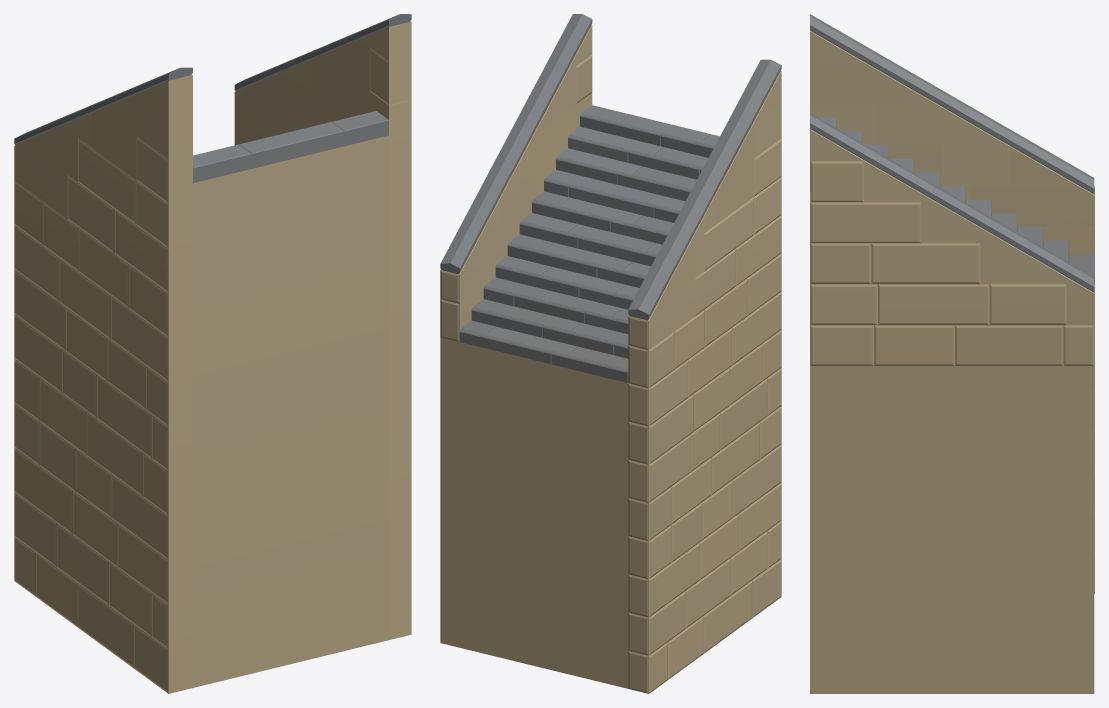
The picture shows the model from 3 angles, left to right: view 1: azimuth 30°, elevation 25°; view 2: azimuth 150°, elevation 25°; view 3: azimuth 270°, elevation 25°; orthographic projection. The views are drawn at different scales.
Visible parts, largest first — view 1: Mesh_Limestone, Mesh_Granite; view 2: Mesh_Limestone, Mesh_Granite; view 3: Mesh_Limestone, Mesh_Granite.
Part boxes in pixels (x1=…): Mesh_Limestone: x1=14, y1=21, x2=411, y2=693; Mesh_Granite: x1=14, y1=14, x2=411, y2=183; Mesh_Limestone: x1=440, y1=25, x2=781, y2=693; Mesh_Granite: x1=440, y1=14, x2=781, y2=382; Mesh_Limestone: x1=810, y1=31, x2=1094, y2=693; Mesh_Granite: x1=810, y1=14, x2=1094, y2=292.
Bounding box in the file's own units: 3.02 × 7.35 × 3.31.
